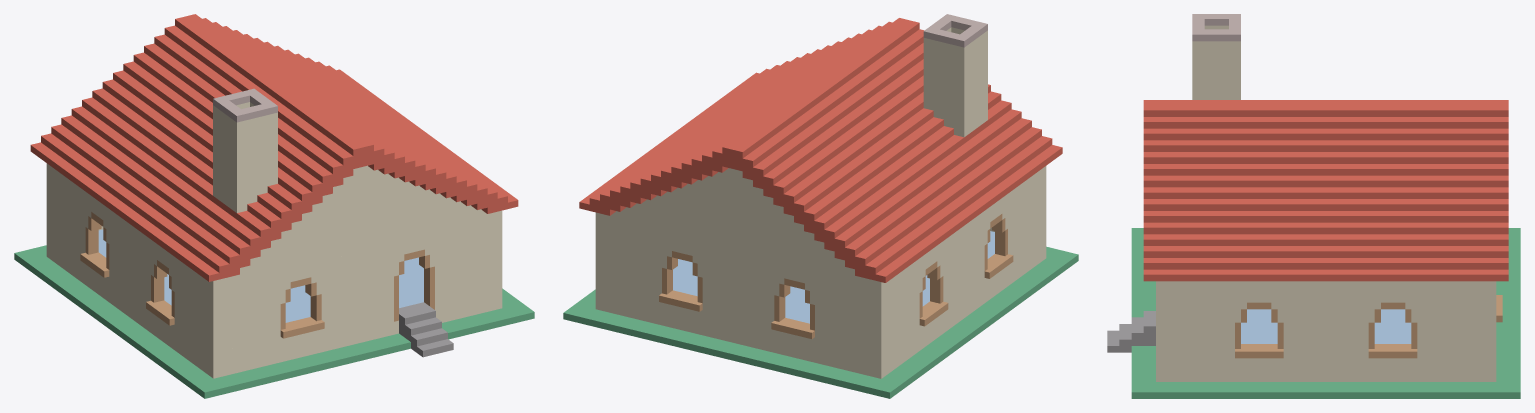
File: house.glb
3 renders of one model, left to right at view 1: azimuth 30°, elevation 25°; view 2: azimuth 150°, elevation 25°; view 3: azimuth 270°, elevation 25°, orthographic. The views are drawn at different scales.
Parts seen in each view (by area): view 1: happyhome; view 2: happyhome; view 3: happyhome.
Boxes of the visible parts, box(x1,y1,x2,y2) form: happyhome: box(14, 14, 534, 398); happyhome: box(563, 14, 1078, 398); happyhome: box(1107, 14, 1520, 398).
Bounding box in the file's own units: 64 × 45.6 × 68.
